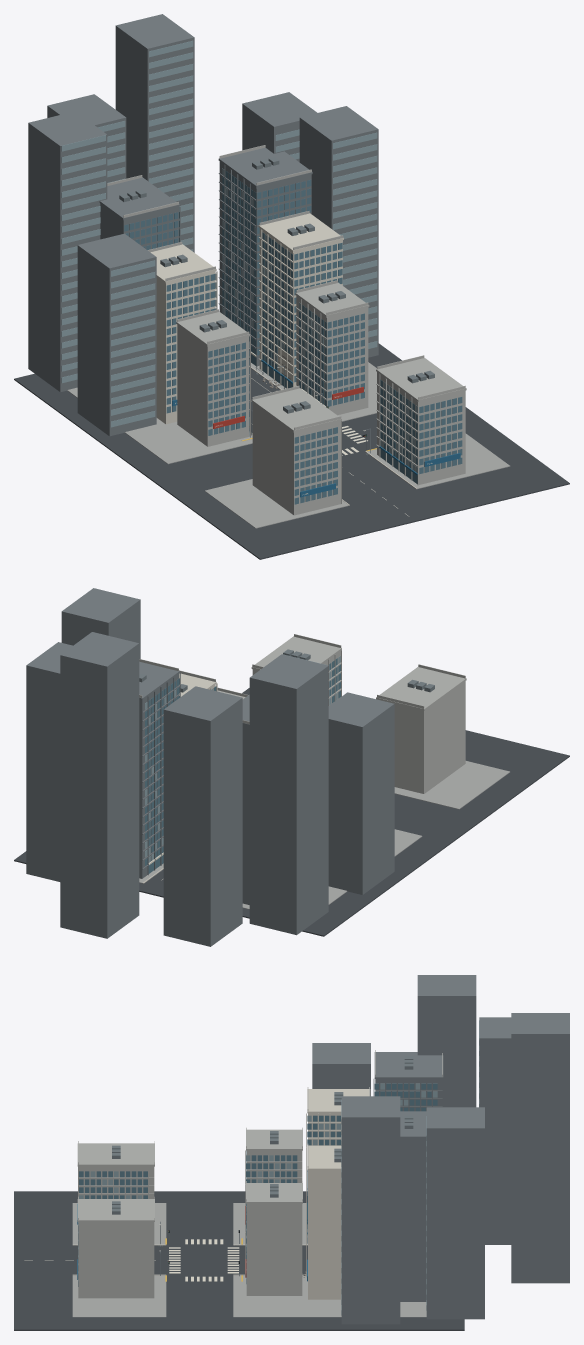
The model's file is shinjuku-opening.glb.
3 views of the same model, one above another, from view 1: azimuth 30°, elevation 25°; view 2: azimuth 150°, elevation 25°; view 3: azimuth 270°, elevation 25° (orthographic). The views are drawn at different scales.
Visible parts, largest first — view 1: Distant towers, Road foundation, Distant tower ribbons, Raised sidewalks, Block W-03 structure, Block W-00 structure, Block E-03 structure, Block E-02 structure, Block E-00 structure, Block E-02 windows, Block W-01 structure, Block E-01 structure (+26 smaller); view 2: Distant towers, Road foundation, Block W-03 structure, Raised sidewalks, Block E-02 structure, Block E-02 windows, Block W-03 cornice, Block W-02 structure, Block E-02 piers, Block E-03 cornice, Block E-02 floors, Block E-02 cornice (+1 smaller); view 3: Distant towers, Road foundation, Raised sidewalks, Block E-03 structure, Block E-00 structure, Block E-02 structure, Block E-01 structure, Block W-03 cornice, Block W-02 cornice, Block E-03 cornice, Block W-03 structure, Block W-03 windows (+13 smaller).
Part boxes in pixels (bbox=[...]): Distant towers: bbox=[28, 14, 378, 436]; Road foundation: bbox=[14, 343, 569, 559]; Distant tower ribbons: bbox=[61, 40, 377, 427]; Raised sidewalks: bbox=[67, 362, 510, 528]; Block W-03 structure: bbox=[252, 403, 340, 515]; Block W-00 structure: bbox=[177, 324, 249, 446]; Block E-03 structure: bbox=[377, 372, 465, 484]; Block E-02 structure: bbox=[219, 161, 311, 365]; Block E-00 structure: bbox=[296, 295, 368, 415]; Block E-02 windows: bbox=[222, 170, 256, 354]; Block W-01 structure: bbox=[156, 271, 215, 424]; Block E-01 structure: bbox=[259, 228, 342, 388]; Distant towers: bbox=[26, 588, 394, 946]; Road foundation: bbox=[14, 688, 569, 936]; Block W-03 structure: bbox=[394, 681, 465, 793]; Raised sidewalks: bbox=[139, 761, 509, 909]; Block E-02 structure: bbox=[139, 674, 178, 878]; Block E-02 windows: bbox=[145, 678, 179, 865]; Block W-03 cornice: bbox=[376, 667, 466, 710]; Block W-02 structure: bbox=[242, 725, 249, 904]; Block E-02 piers: bbox=[147, 672, 180, 875]; Block E-03 cornice: bbox=[251, 636, 341, 670]; Block E-02 floors: bbox=[142, 685, 179, 869]; Block E-02 cornice: bbox=[139, 661, 179, 700]; Distant towers: bbox=[312, 975, 569, 1324]; Road foundation: bbox=[14, 1191, 464, 1330]; Raised sidewalks: bbox=[72, 1203, 426, 1317]; Block E-03 structure: bbox=[78, 1222, 154, 1298]; Block E-00 structure: bbox=[246, 1203, 302, 1295]; Block E-02 structure: bbox=[400, 1138, 426, 1301]; Block E-01 structure: bbox=[308, 1170, 341, 1299]; Block W-03 cornice: bbox=[77, 1143, 154, 1166]; Block W-02 cornice: bbox=[374, 1052, 443, 1078]; Block E-03 cornice: bbox=[77, 1199, 154, 1221]; Block W-03 structure: bbox=[78, 1166, 154, 1198]; Block W-03 windows: bbox=[79, 1171, 147, 1198].
Bounding box in the file's own units: 112 × 94.42 × 190.
